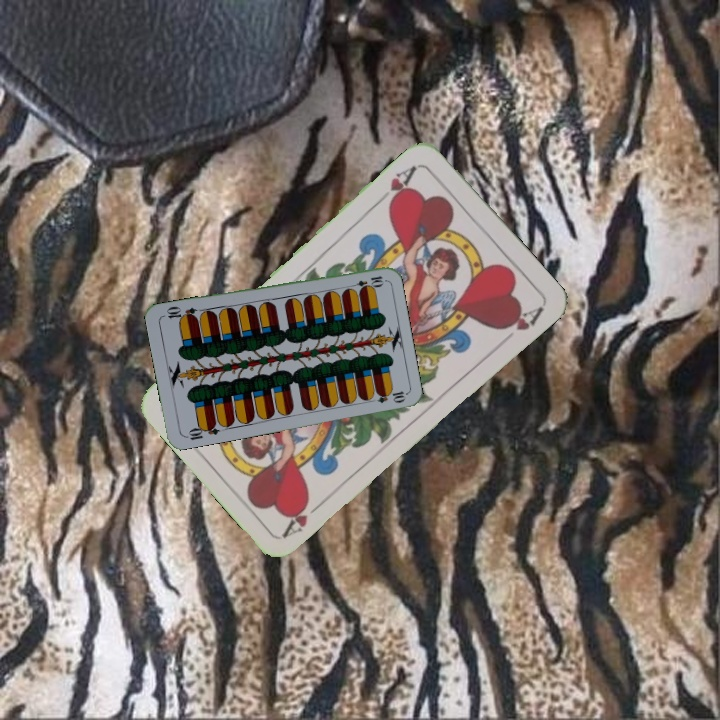E10: (181, 419, 222, 443), (345, 272, 386, 291)
HA: (374, 161, 420, 211), (279, 493, 329, 539)
